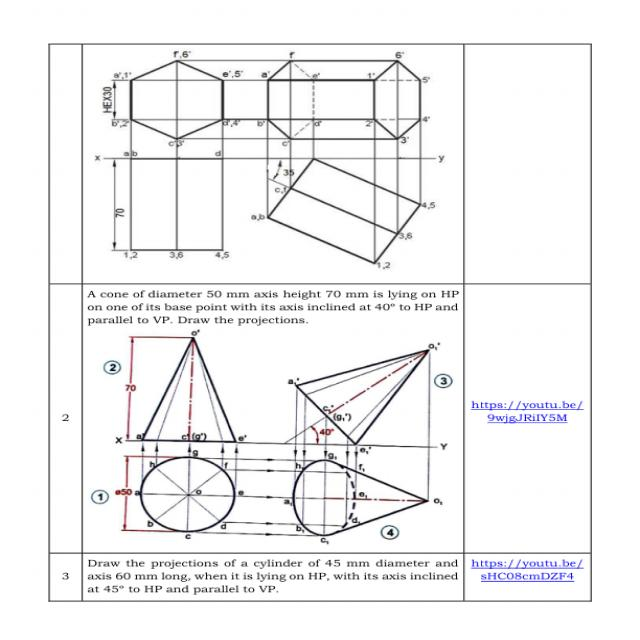Drawings: (91, 48, 453, 273), (112, 331, 439, 540)
